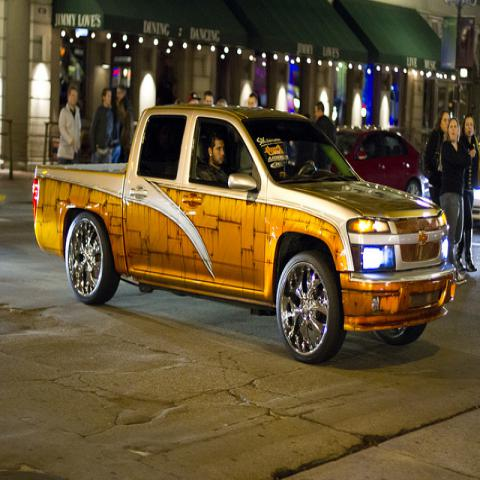car: (339, 130, 429, 199), (472, 186, 480, 222)
truck: (33, 102, 455, 362)
